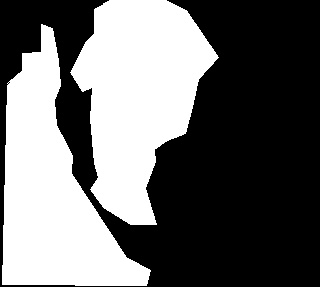fire: (73, 45, 146, 167)
